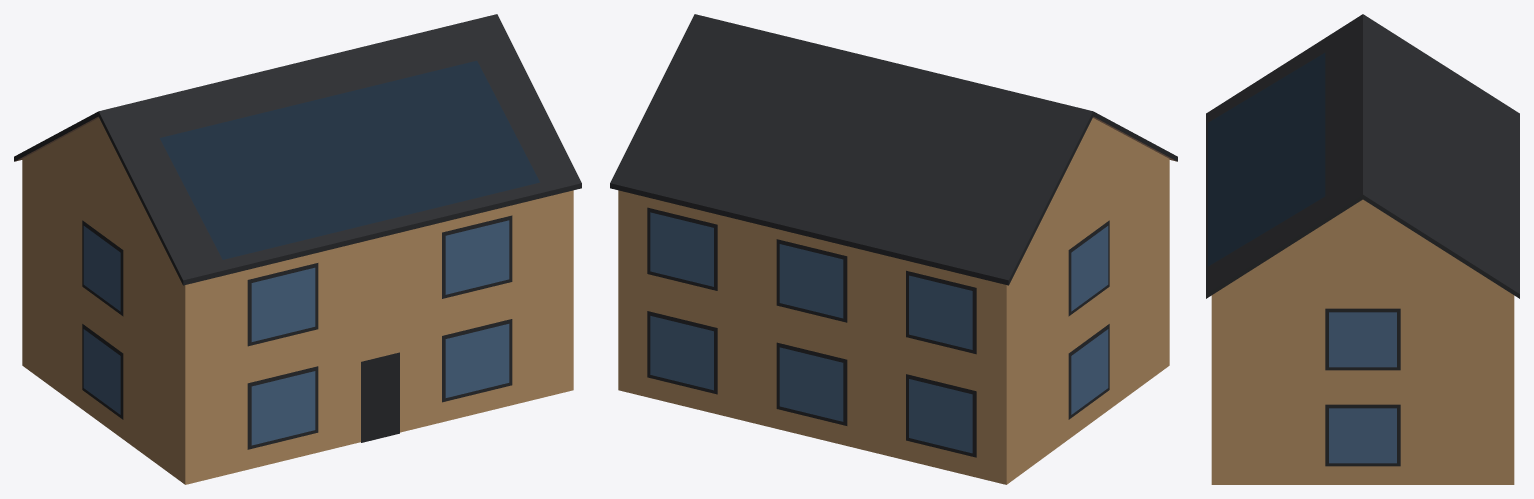
The model's file is maison_bois.glb.
The picture shows the model from 3 angles, left to right: view 1: azimuth 30°, elevation 25°; view 2: azimuth 150°, elevation 25°; view 3: azimuth 270°, elevation 25°; orthographic projection. The views are drawn at different scales.
Visible parts, largest first — view 1: maison_bois; view 2: maison_bois; view 3: maison_bois.
Boxes of the visible parts, box(x1,y1,x2,y2) form: maison_bois: box(14, 14, 581, 484); maison_bois: box(610, 14, 1177, 484); maison_bois: box(1206, 14, 1519, 484).
Size of the model in its own units: 11.3 by 8.54 by 8.3.
Materials: 1 (1 with a texture image).
